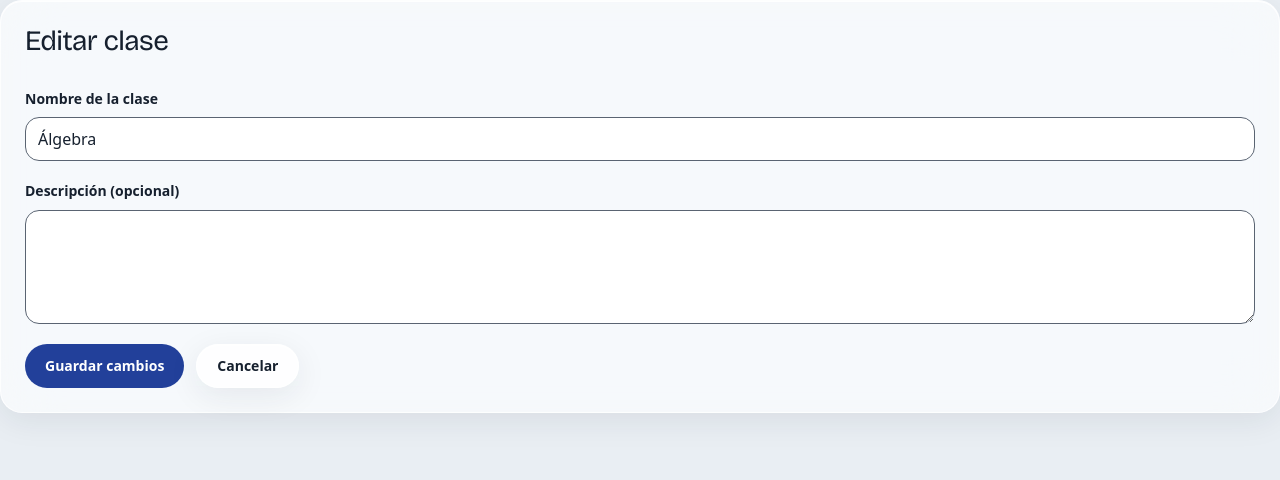
CHORE-03 · la frase genérica en un ErrorDeCampo de clases: repetir el control › CH3-B10: editar clase tras F2: el mismo botón manda una petición nueva y, si responde bien, el ErrorDeCampo desaparece
Replace the text in the field labelled "Nombre de la clase" with "Álgebra II". click: (640, 140)
box: [25,118,1255,162]
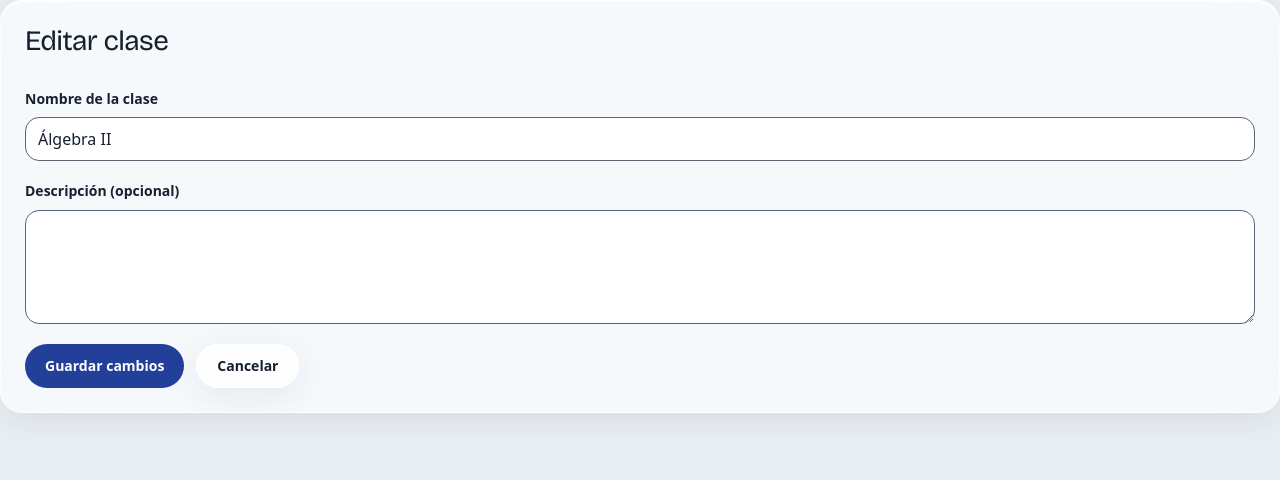
Click the button "Guardar cambios". click: (105, 366)
box: [25,344,184,388]
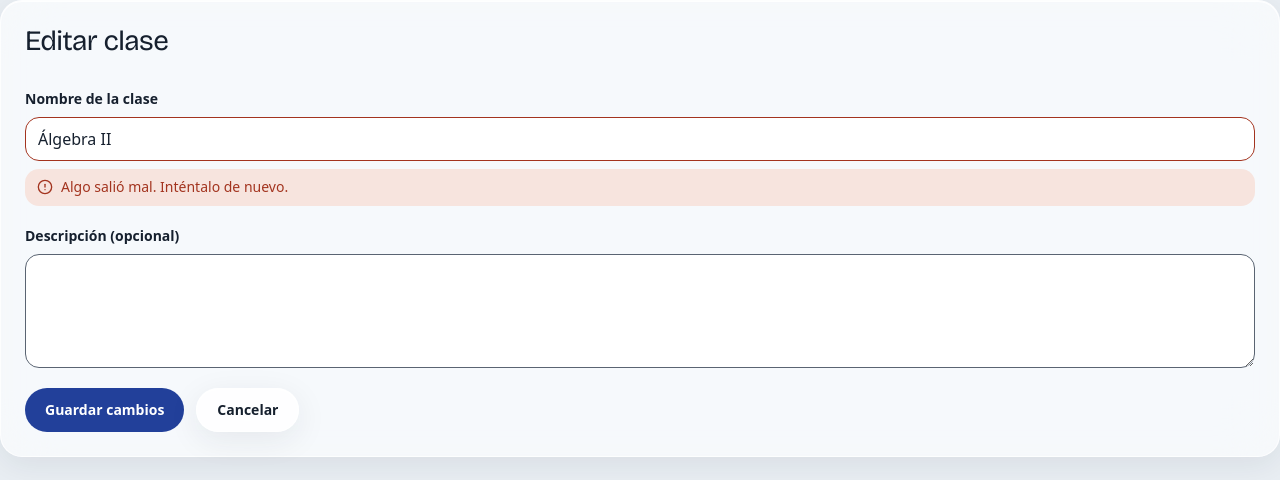
Click the button "Guardar cambios". click: (105, 410)
box: [25,388,184,432]
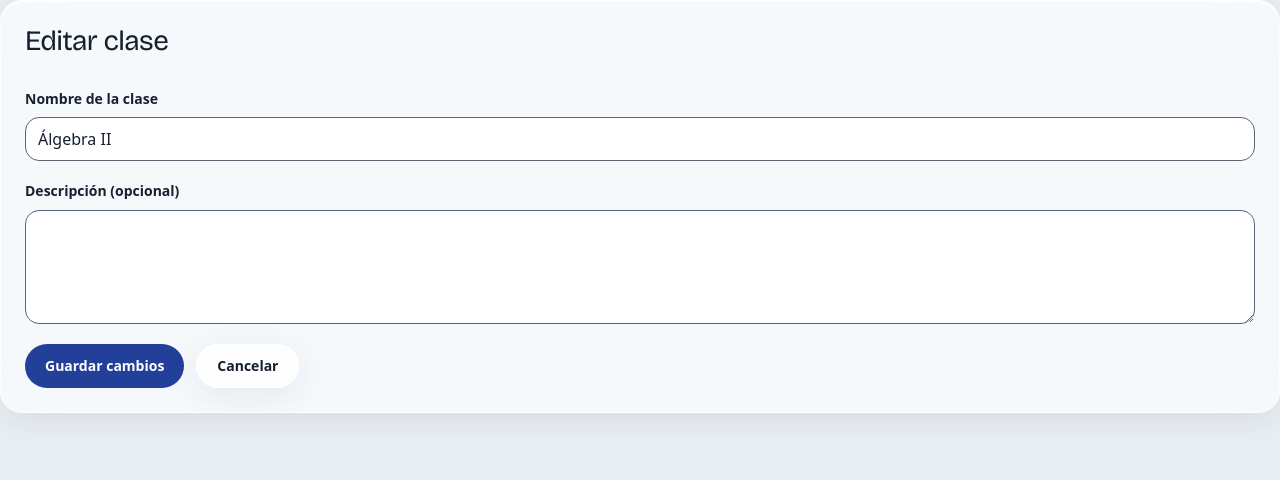
Expected: the text "Algo salió mal. Inténtalo de nuevo." is gone
